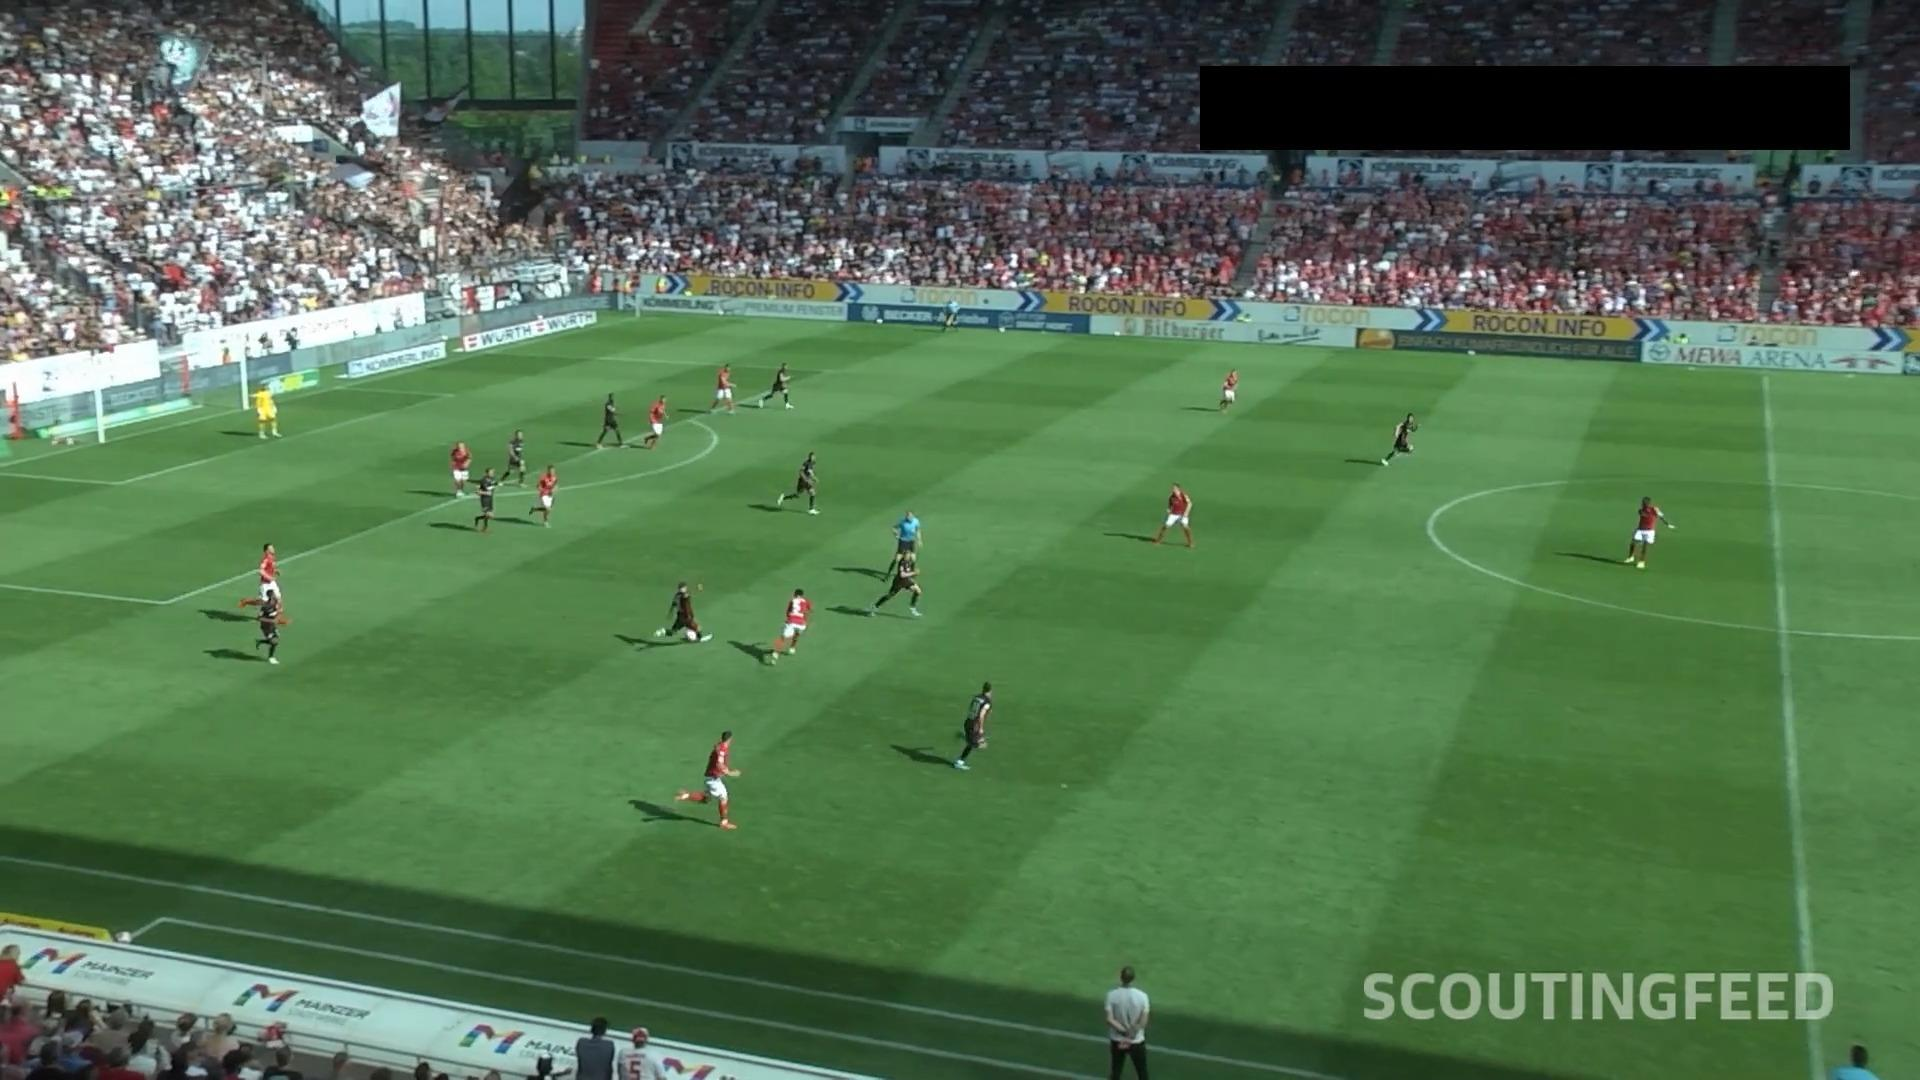ball: (686, 629, 698, 642)
